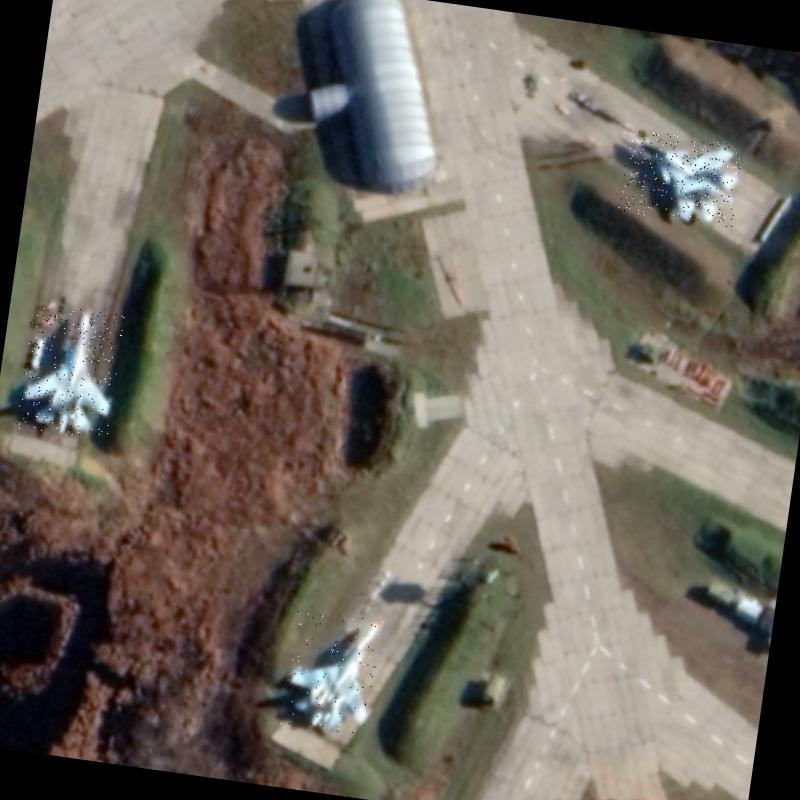A1: (15, 302, 125, 441), (280, 608, 384, 736)
A19: (617, 128, 743, 228)
